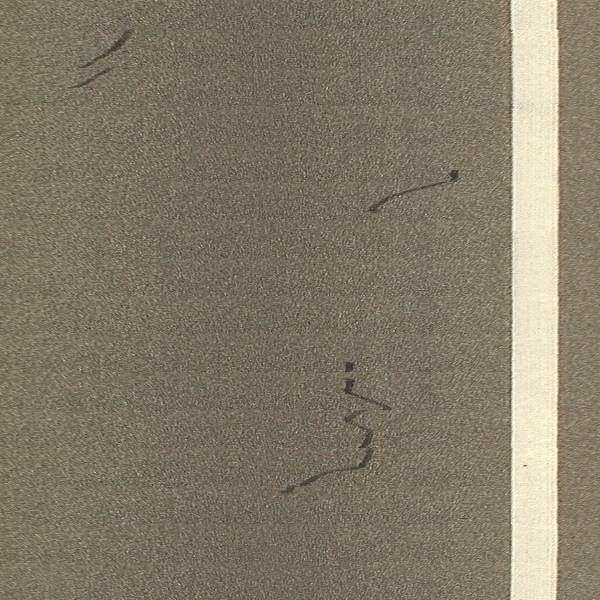road_damage: (273, 357, 398, 506), (365, 166, 465, 219)
